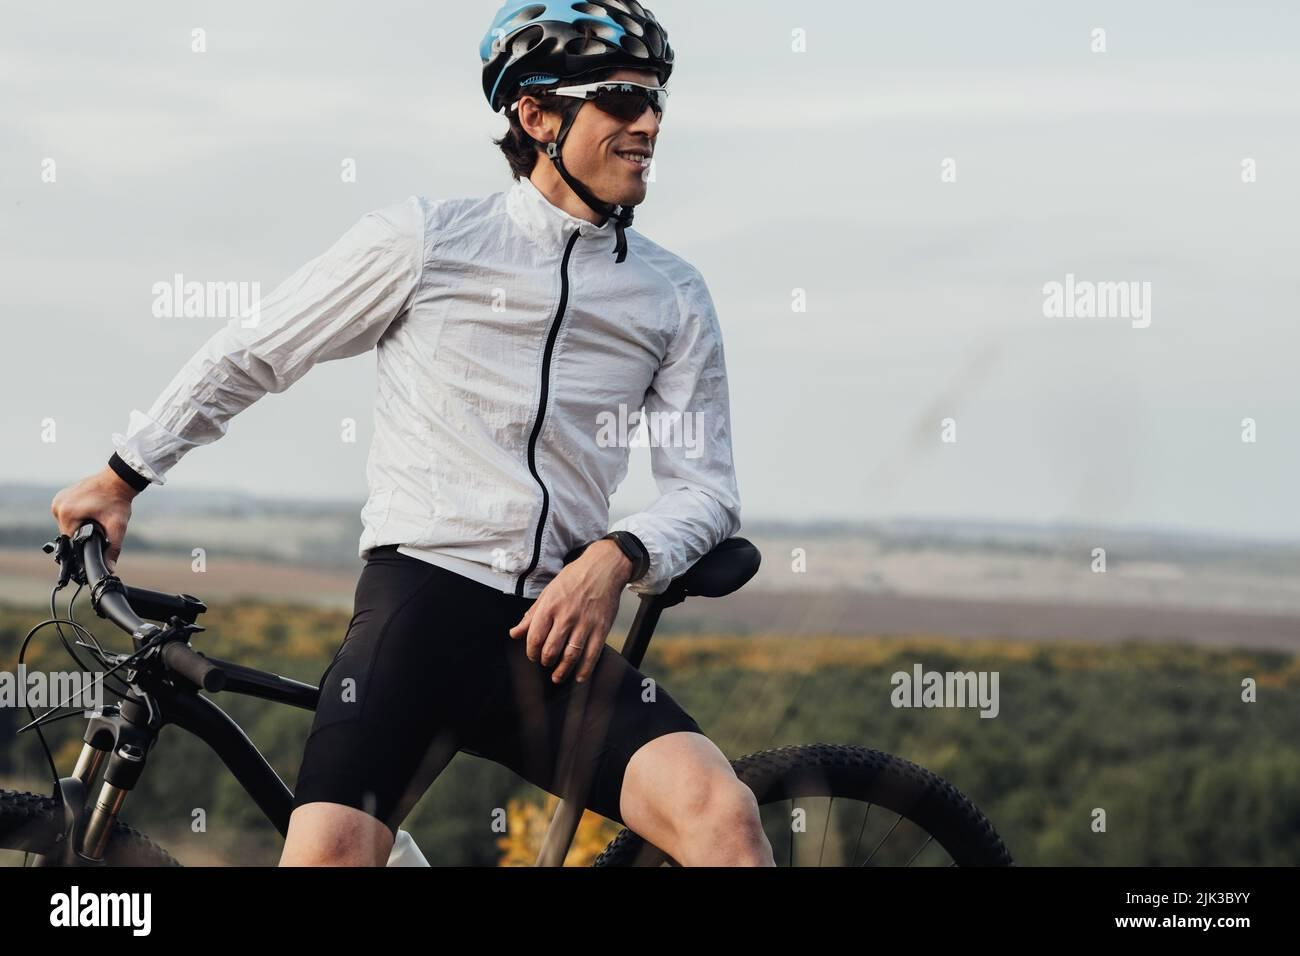Helmet: (477, 2, 680, 113)
